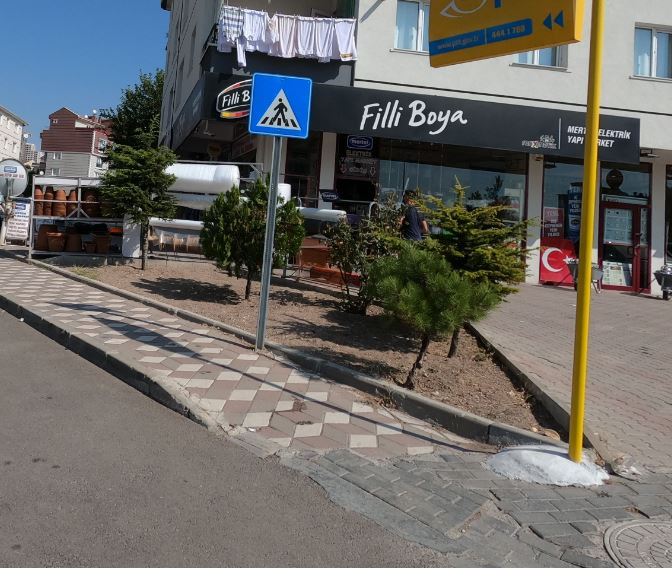Yaya Gecidi: (251, 70, 309, 137)
